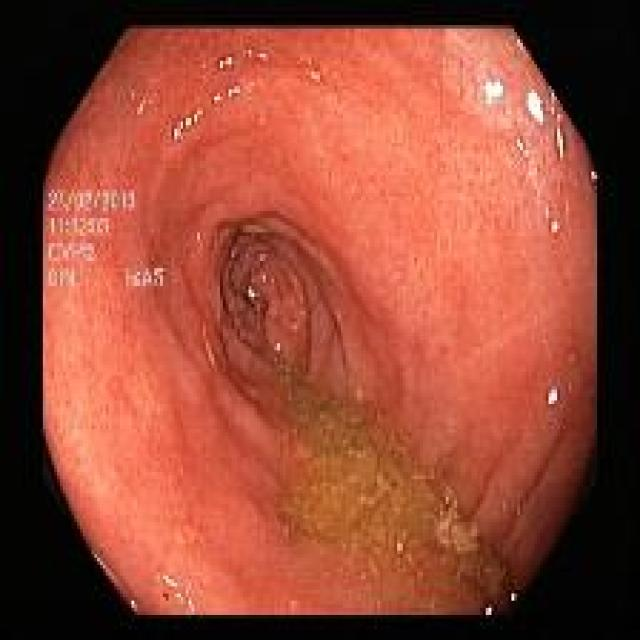ulcerative-colitis: (44, 28, 598, 616)
